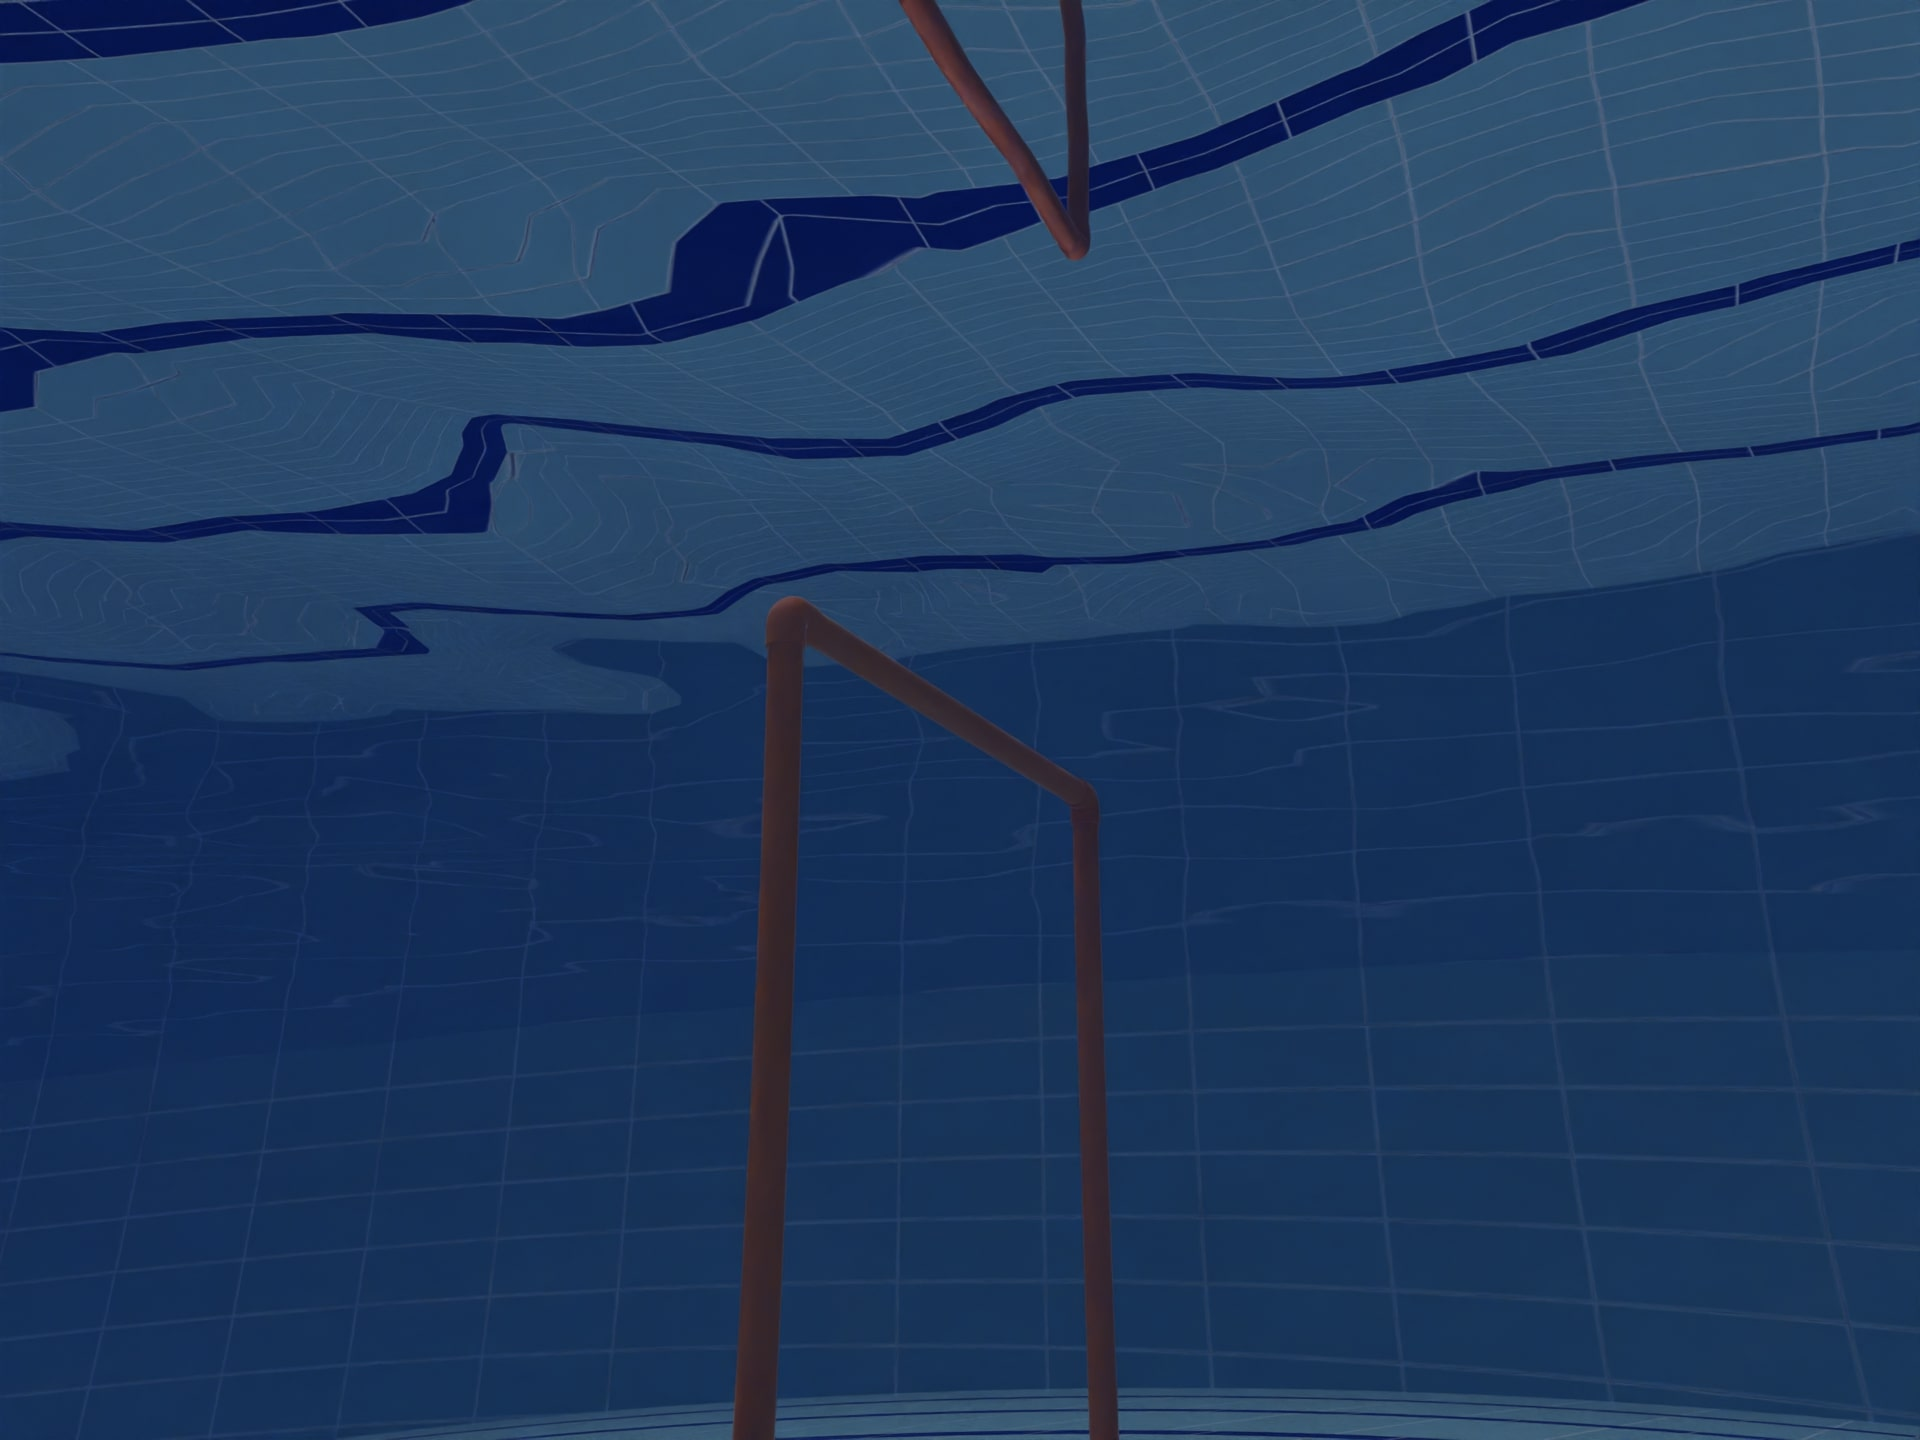gate: (738, 561, 1147, 1440)
